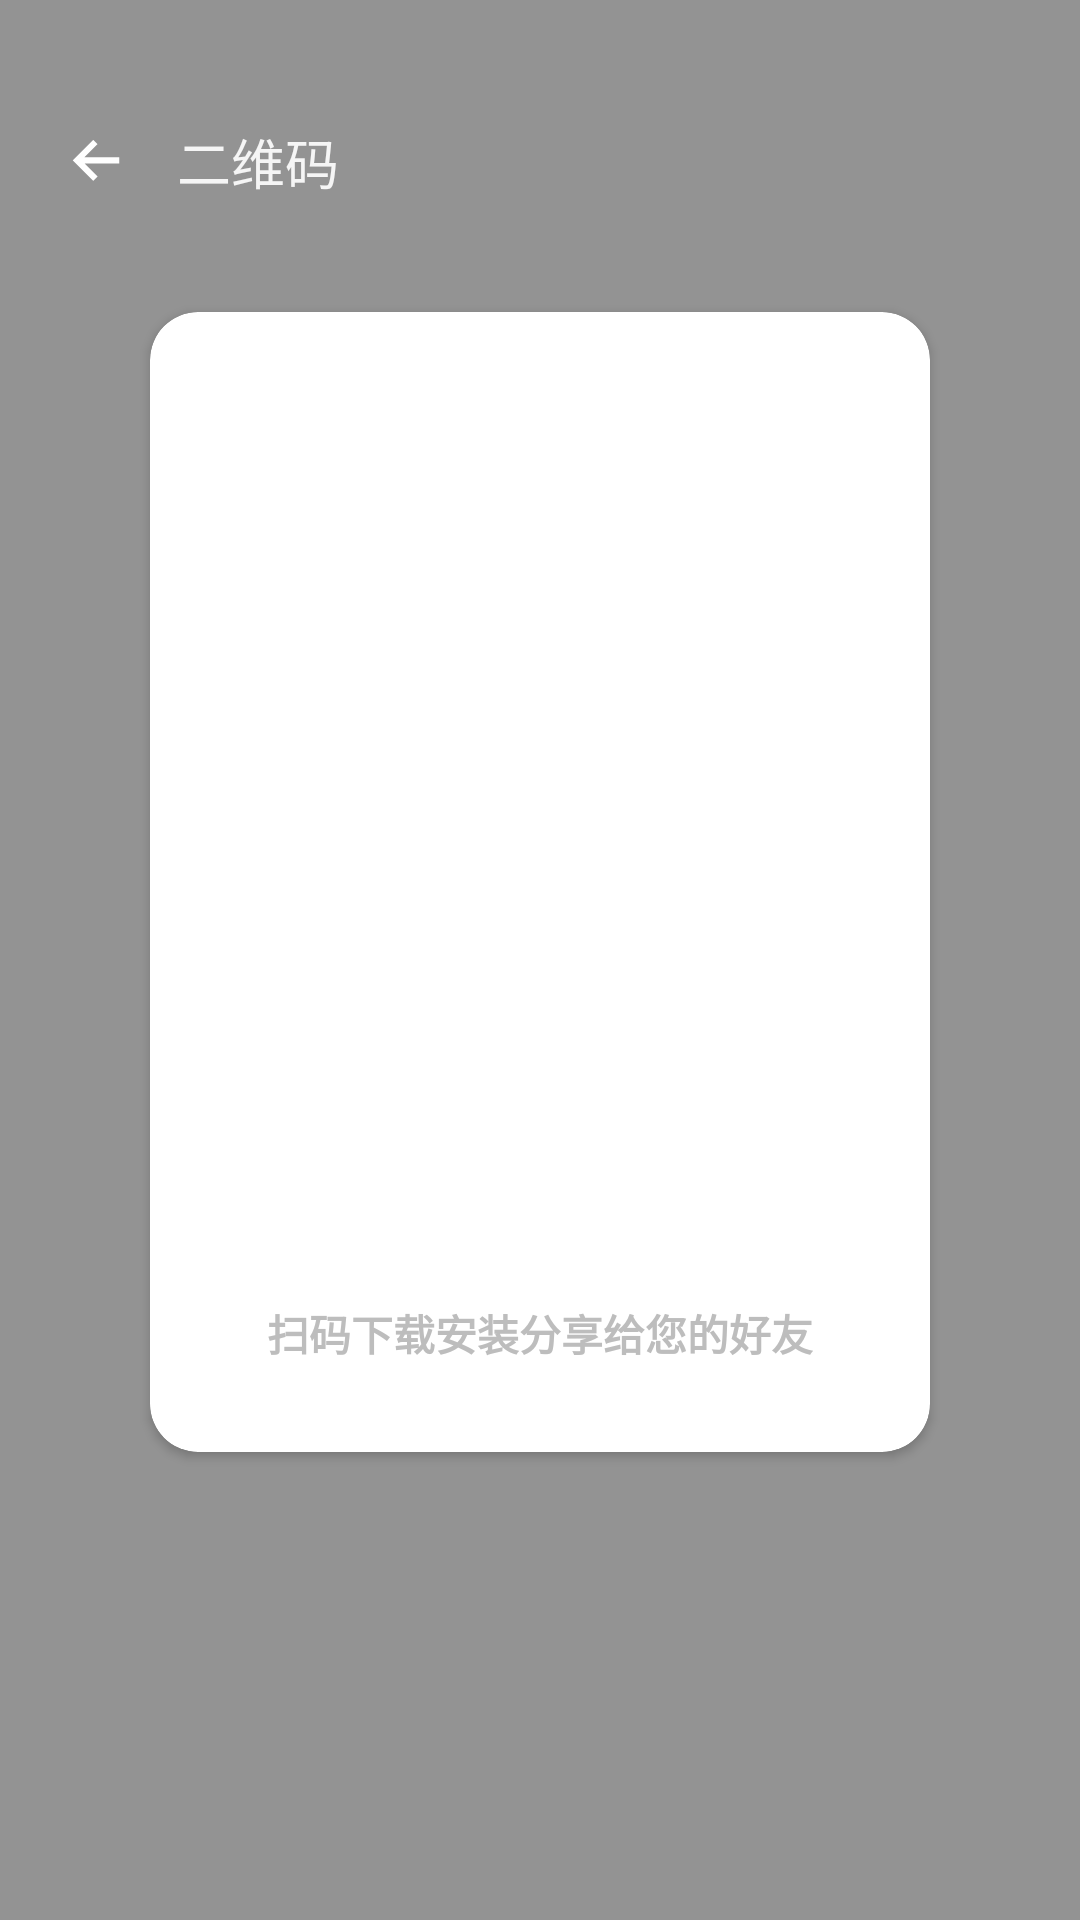

Named icons in this screenshot (1080*1920) and their centers, point (x, y):
back: point (96, 160)
